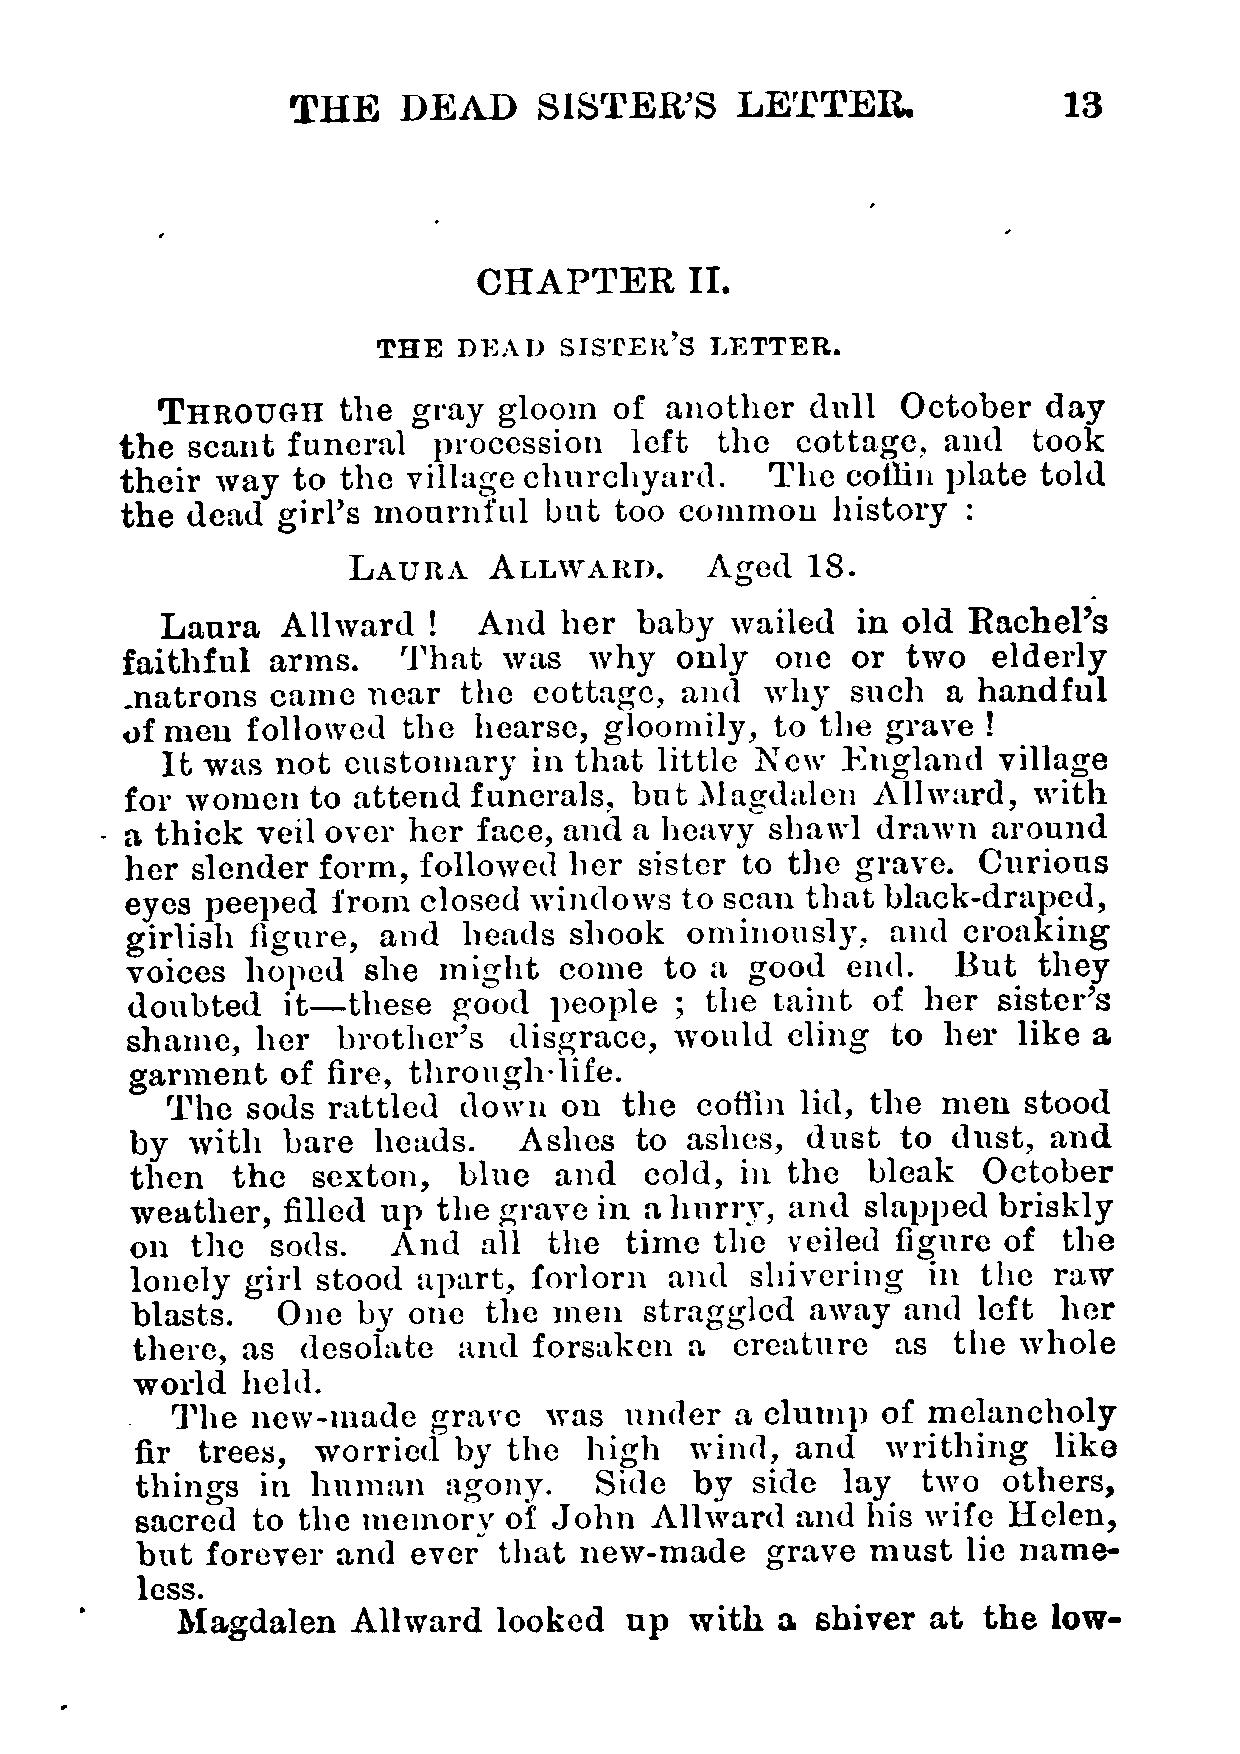chapter: (373, 262, 841, 360), (285, 89, 921, 123)
content: (115, 391, 1121, 1643)
content_pagenumber: (1057, 85, 1104, 122)
